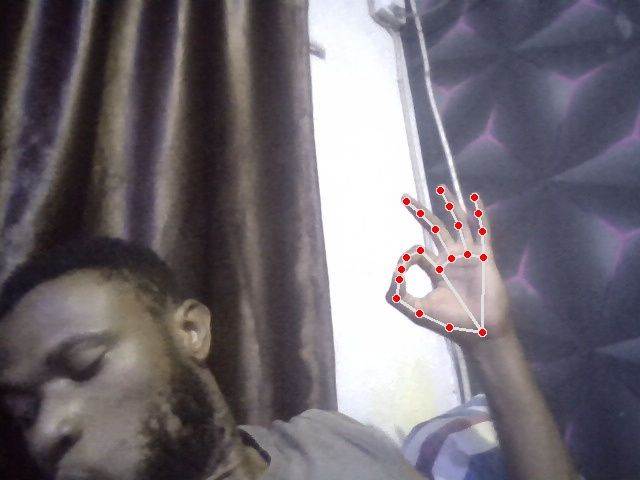okay: (385, 183, 510, 341)
